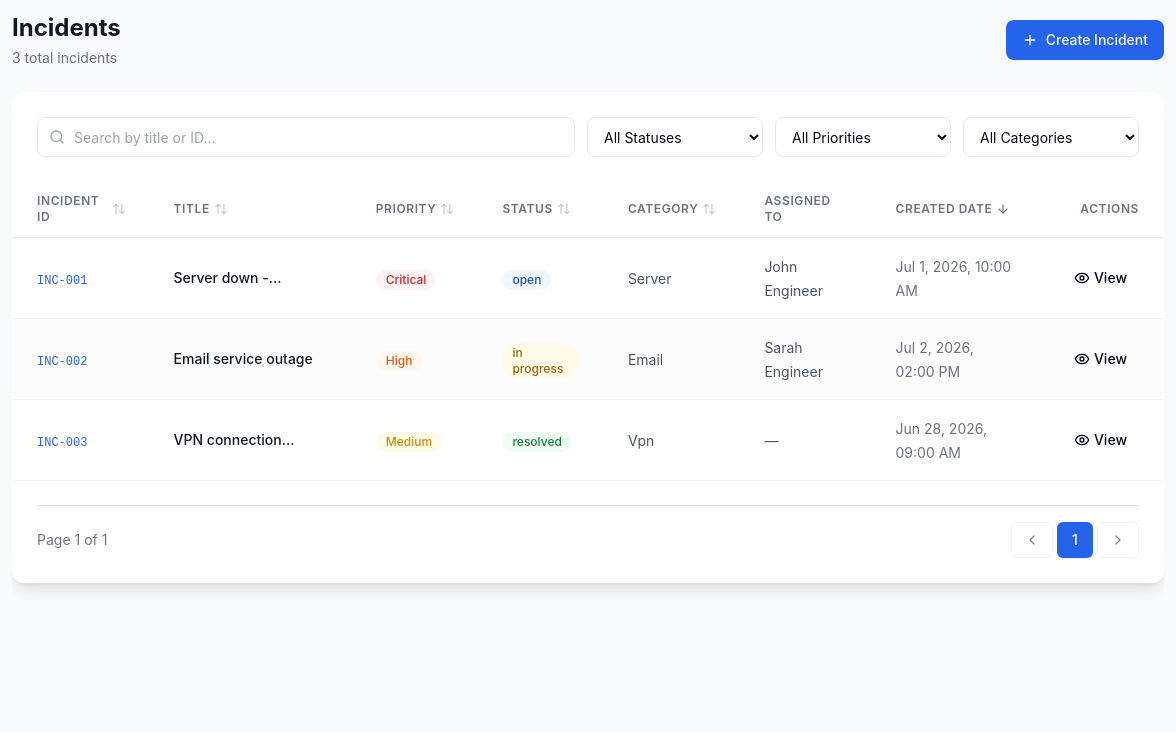
Test: IncidentList › shows filter-specific empty message when filters are active
expect the text "3 total incidents" is shown: met, box [12,48,121,68]
Select "Closed" in the 1st dropdown showing "All Statuses": (675, 137) [587,117,763,157]
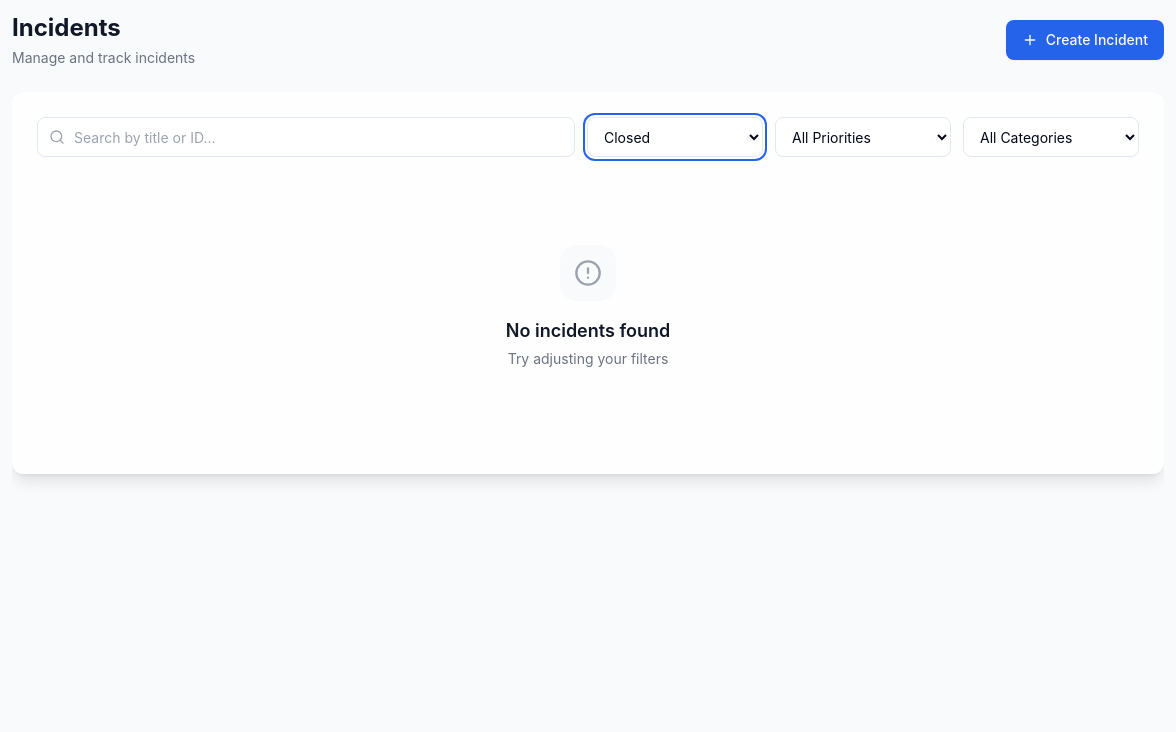
expect the heading "No incidents found" is shown: met, box [506,317,670,345]
expect the text "Try adjusting your filters" is shown: met, box [508,349,668,369]
